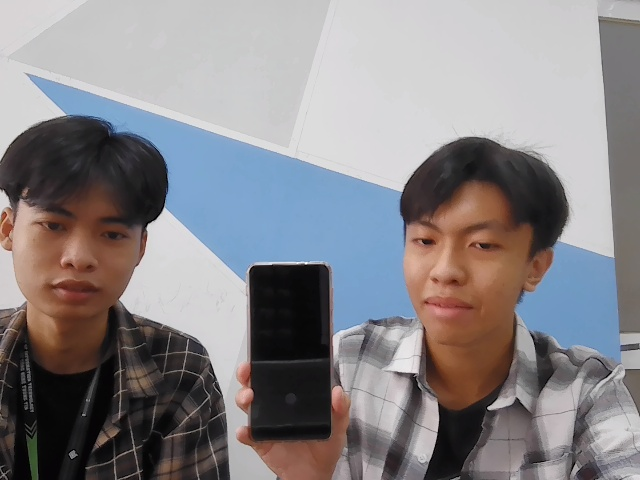human: (395, 137, 565, 345), (7, 110, 165, 310)
phone: (247, 259, 340, 440)
